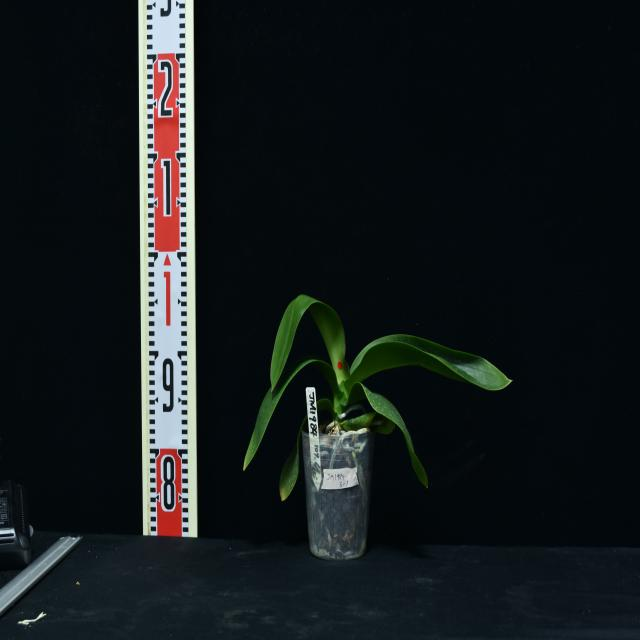leaf: (244, 354, 337, 470), (343, 334, 512, 393), (270, 295, 350, 394), (361, 384, 428, 488), (280, 396, 329, 501), (339, 414, 394, 433)
